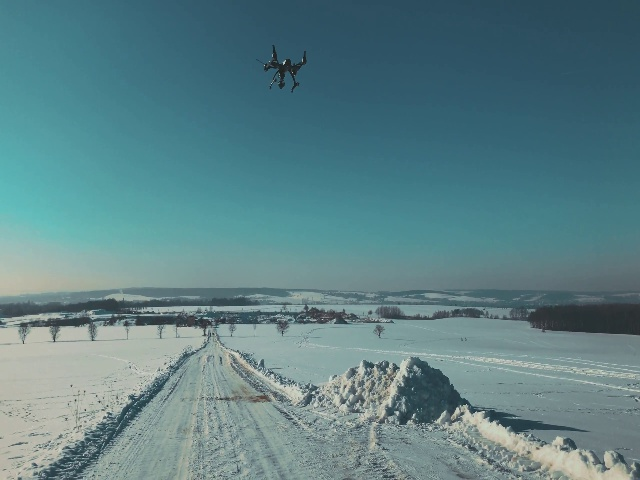drone: (253, 44, 311, 94)
